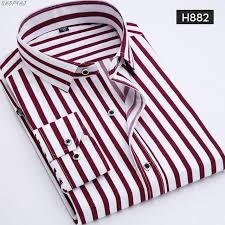striped: (3, 1, 222, 220)
